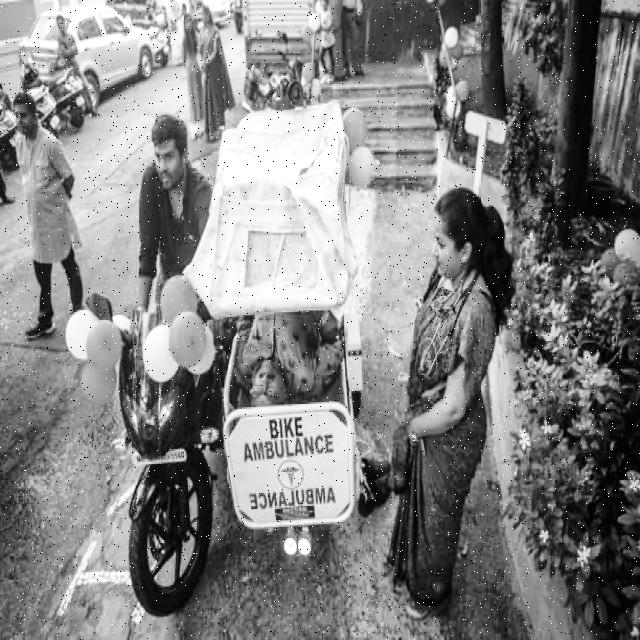Ambulance: (245, 418, 336, 524)
